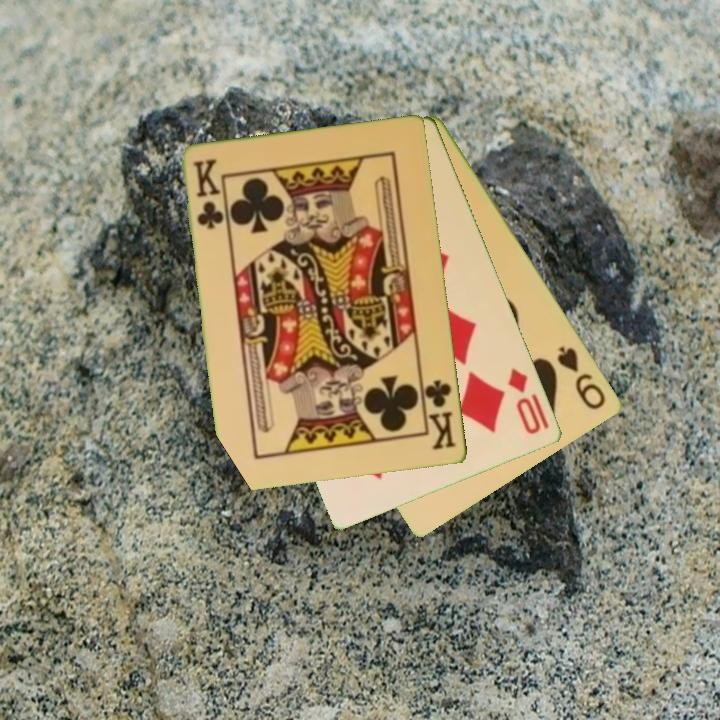10d: (505, 364, 553, 438)
9s: (554, 342, 609, 413)
Kc: (419, 373, 459, 453), (190, 155, 226, 232)
